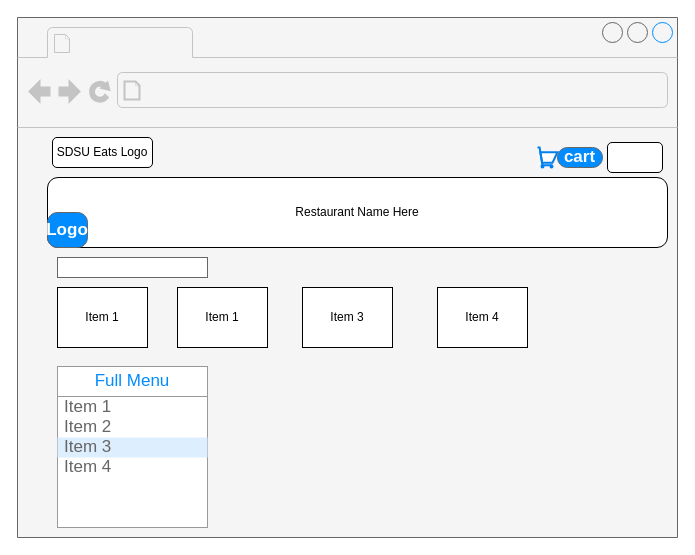
Some shapes in this 695 by 555 pixel diagram are drawn without their labels. The shapes that lost their labels are listed below. From the top down, each one's centre as x and y in pixels, then its label:
At point 132,42: "Page 1".
At point 272,90: "https://www.sdsueats.com/store/".
At point 634,157: "Sign up".
At point 132,267: "Most liked items".
